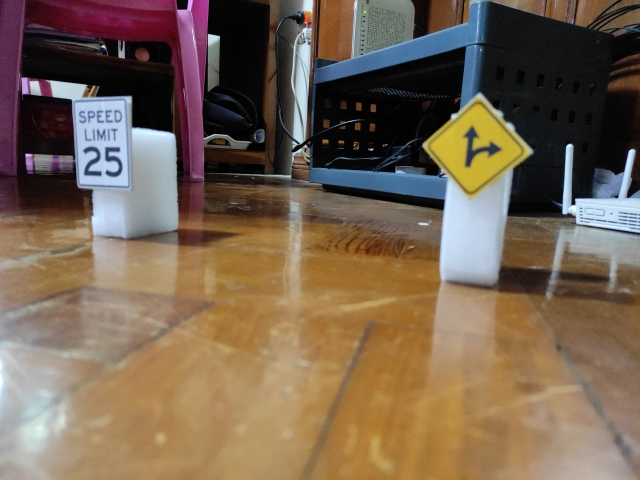Speed Limit 25: (71, 97, 133, 192)
Straight Or Right Sign: (427, 99, 528, 196)
